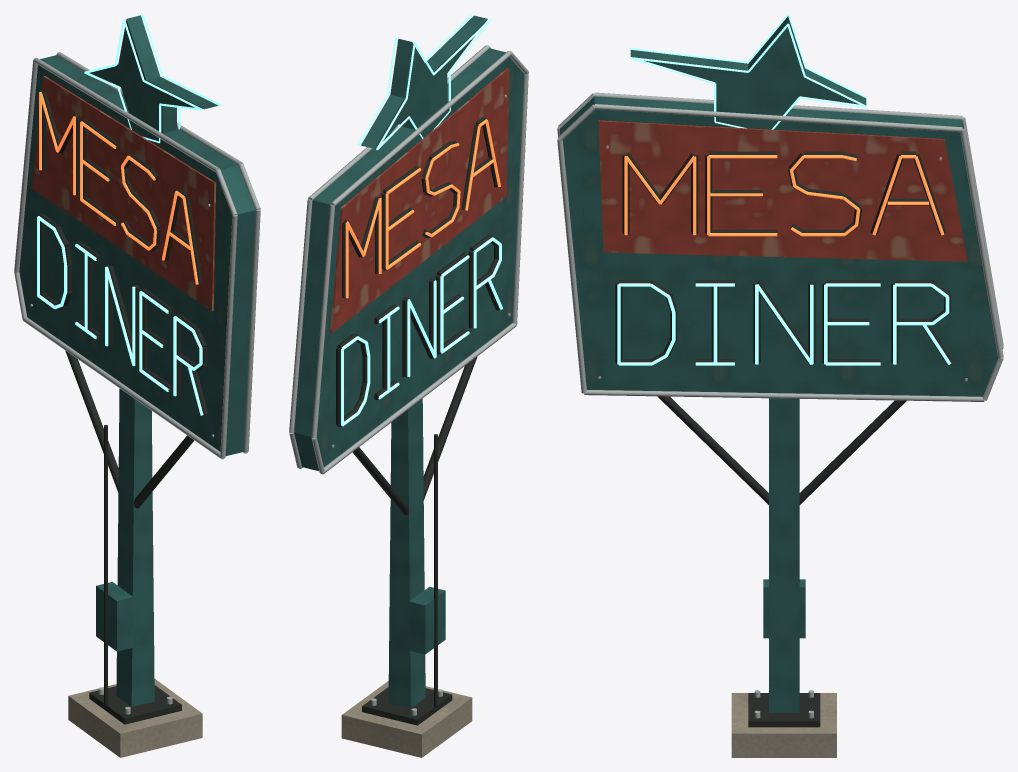
The model's file is SM_Mesa_Sign.fbx.
The picture shows the model from 3 angles, left to right: view 1: azimuth 30°, elevation 25°; view 2: azimuth 150°, elevation 25°; view 3: azimuth 270°, elevation 25°; orthographic projection. The views are drawn at different scales.
Visible parts, largest first — view 1: SM_Mesa_Sign; view 2: SM_Mesa_Sign; view 3: SM_Mesa_Sign.
Boxes of the visible parts, x1,y1,x2,y2 form: SM_Mesa_Sign: (14, 14, 260, 757); SM_Mesa_Sign: (289, 14, 528, 757); SM_Mesa_Sign: (557, 14, 1003, 757).
Size of the model in its own units: 0.75 by 3.48 by 6.19.
